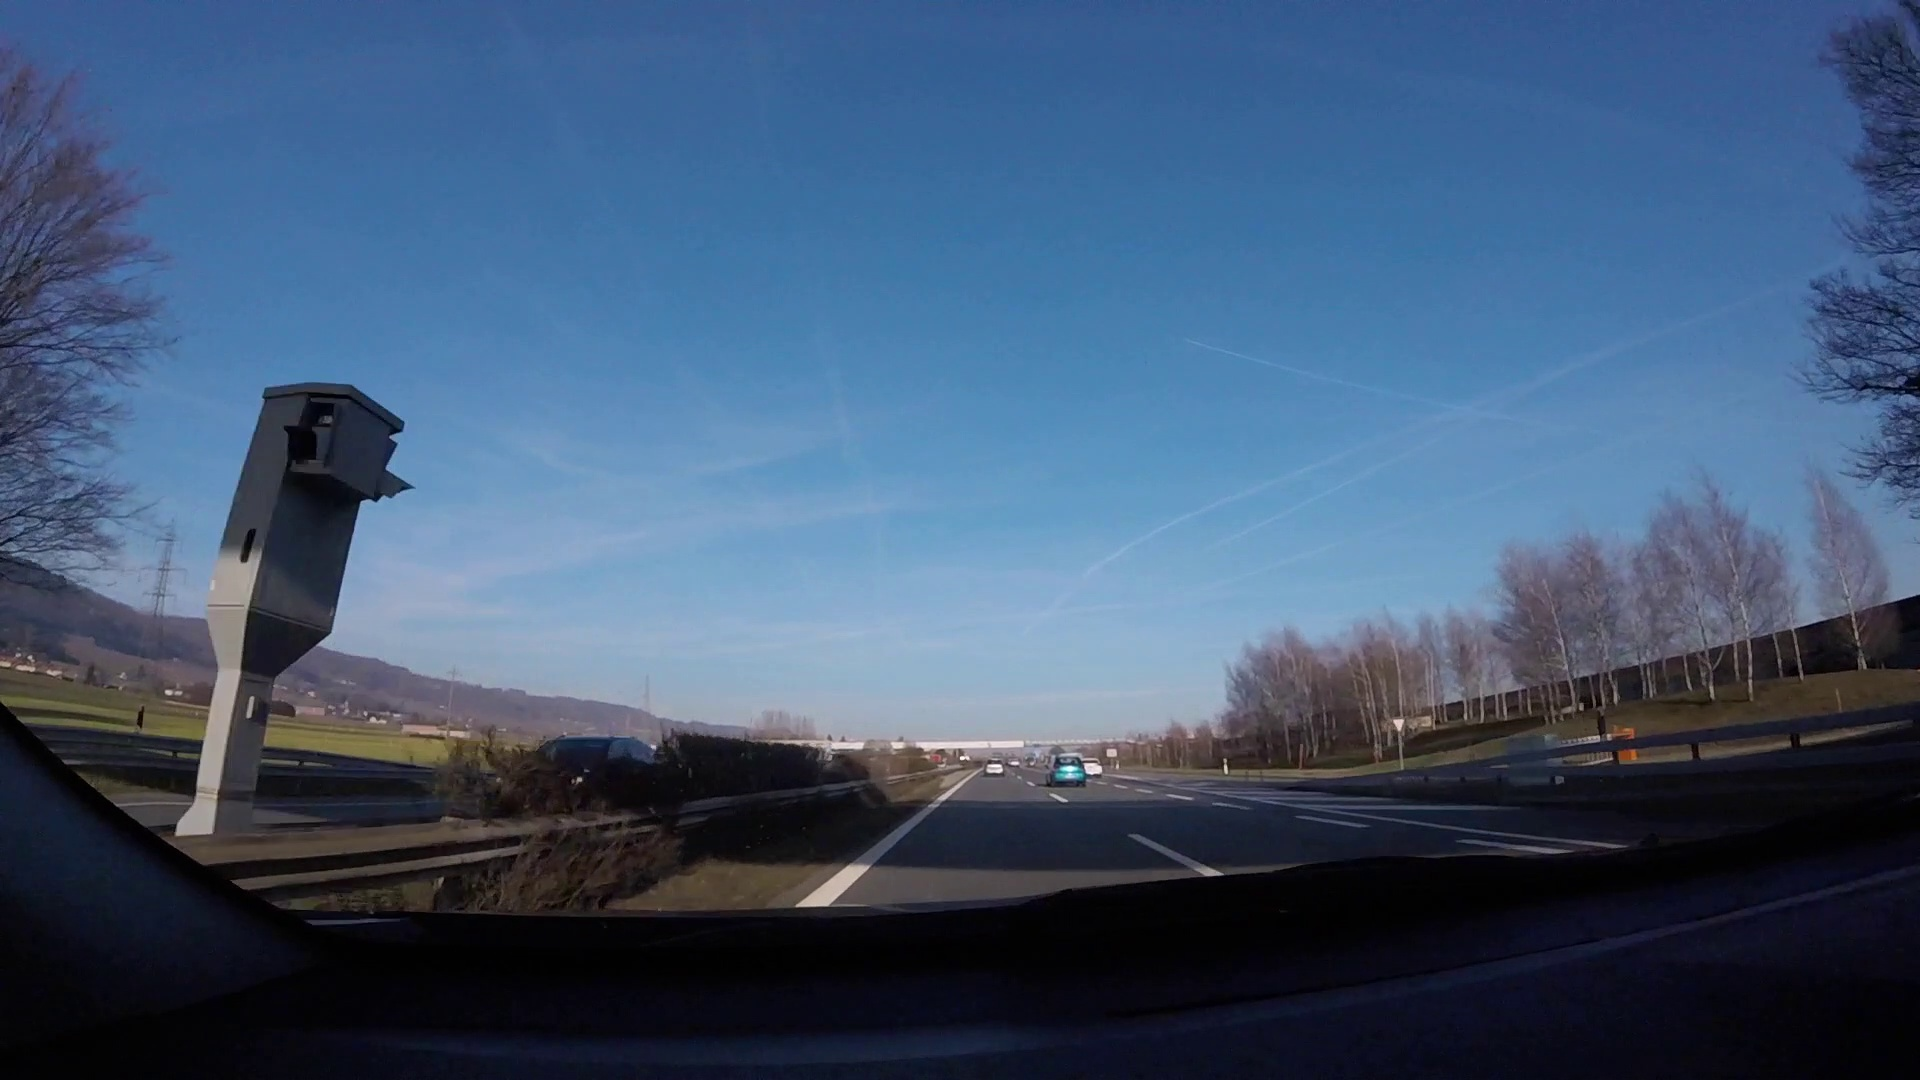radar: (198, 381, 419, 808)
